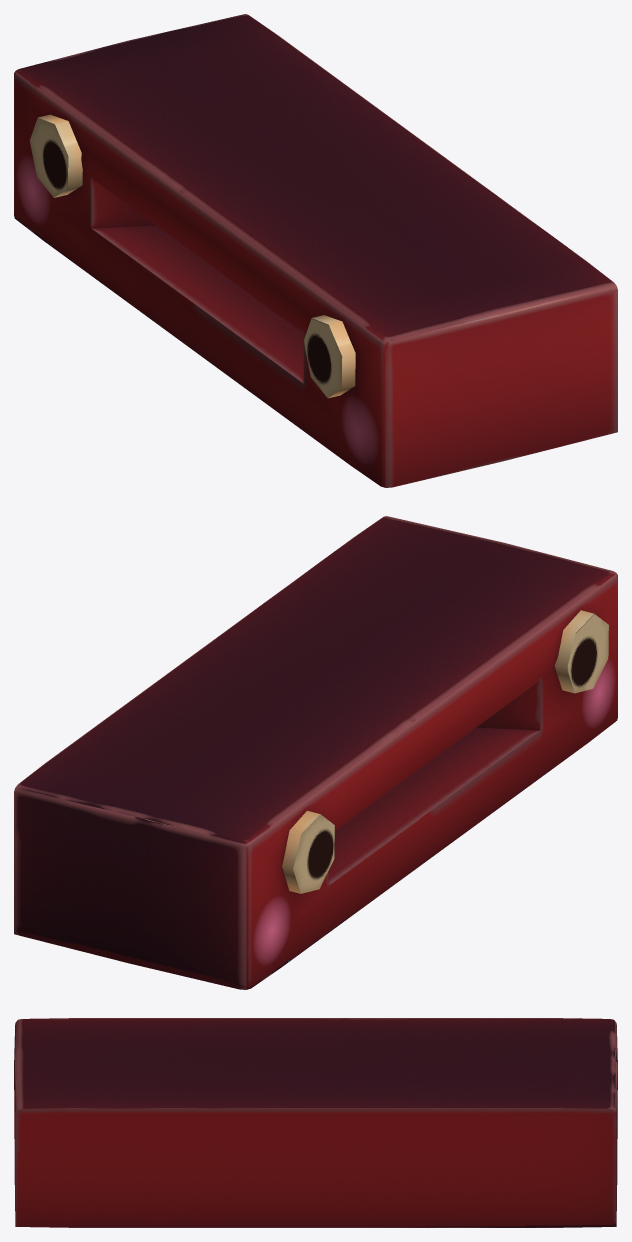
File: labelbox.fbx
3 views of the same model, one above another, from view 1: azimuth 30°, elevation 25°; view 2: azimuth 150°, elevation 25°; view 3: azimuth 270°, elevation 25° (orthographic). The views are drawn at different scales.
Visible parts, largest first — view 1: Cylinder.016; view 2: Cylinder.016; view 3: Cylinder.016.
Boxes of the visible parts, x1,y1,x2,y2 form: Cylinder.016: (14,14,617,487); Cylinder.016: (14,516,617,989); Cylinder.016: (14,1018,617,1227).
Bounding box in the file's own units: 31.1 × 17.9 × 81.16.
Materials: 1 (1 with a texture image).
